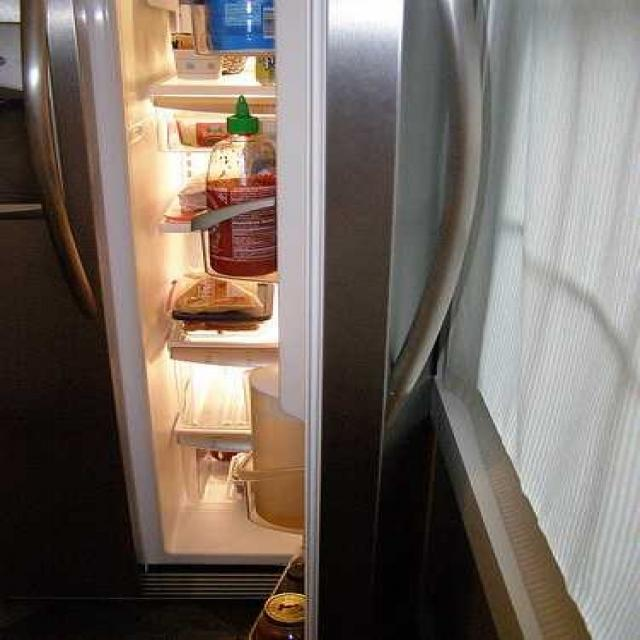refrigerator: (46, 0, 393, 603)
